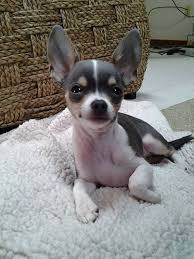chihuahua: (30, 17, 181, 224)
